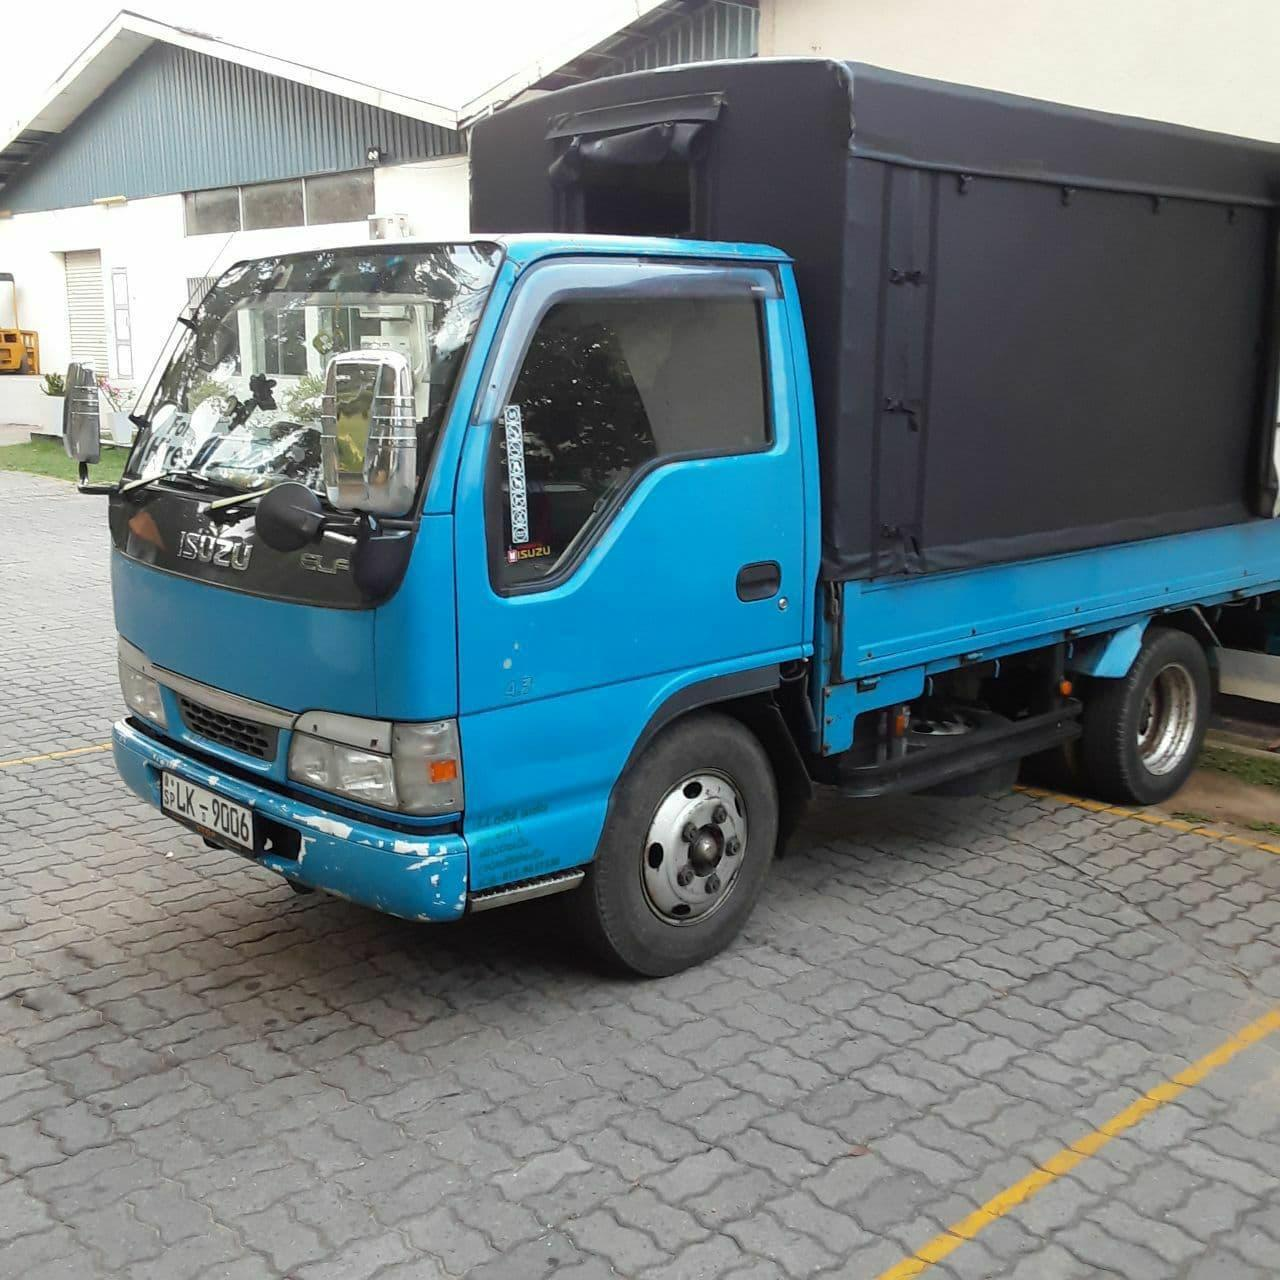truck: (66, 55, 1280, 981)
